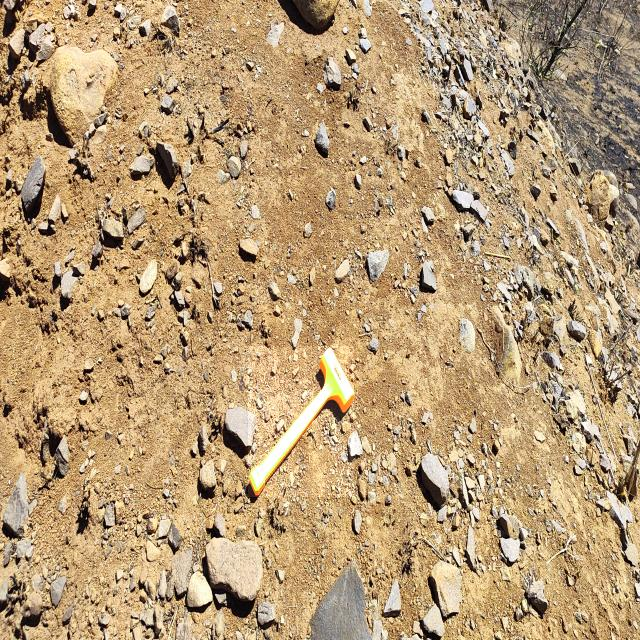Orange_hammer: (248, 346, 354, 497)
